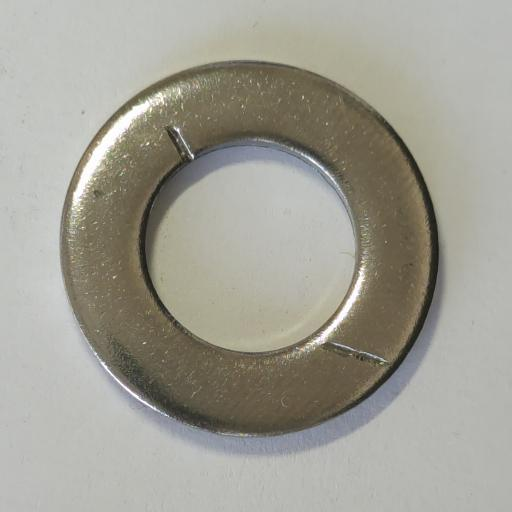scratch: (319, 342, 389, 368), (165, 126, 194, 161)
